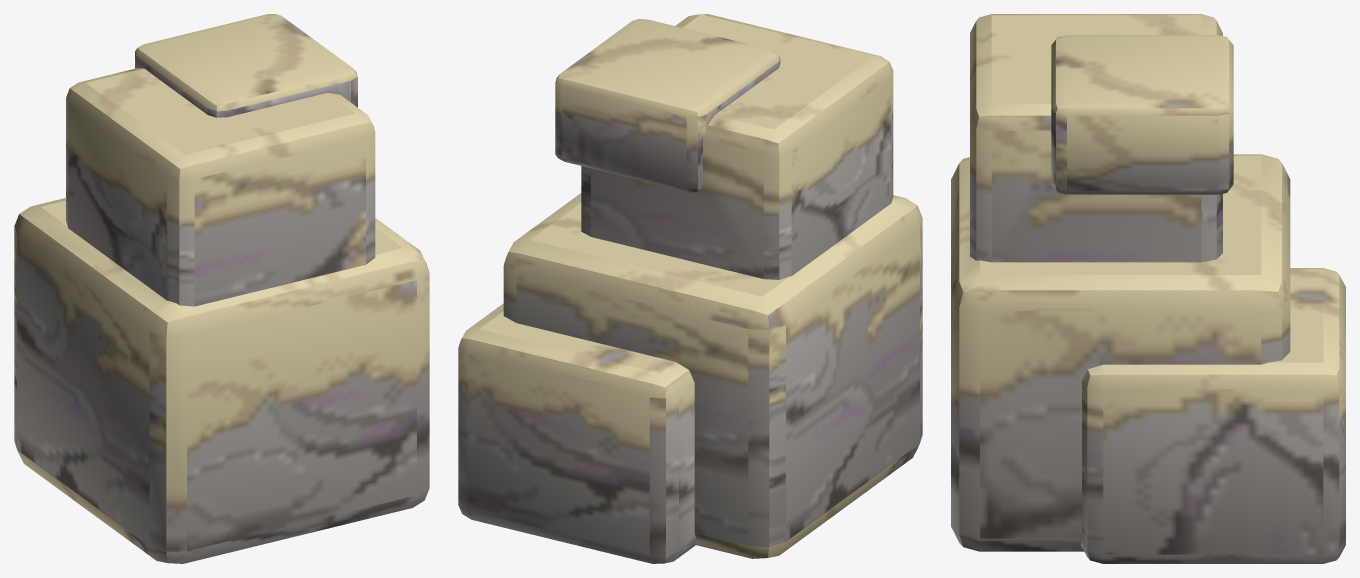
File: stone2.fbx
The picture shows the model from 3 angles, left to right: view 1: azimuth 30°, elevation 25°; view 2: azimuth 150°, elevation 25°; view 3: azimuth 270°, elevation 25°; orthographic projection. The views are drawn at different scales.
Parts seen in each view (by area): view 1: 立方体.254; view 2: 立方体.254; view 3: 立方体.254.
Boxes of the visible parts, left/top/right/bottom form: 立方体.254: left=14, top=14, right=429, bottom=563; 立方体.254: left=458, top=14, right=922, bottom=563; 立方体.254: left=951, top=14, right=1345, bottom=563.
Size of the model in its own units: 122 by 164 by 134.
